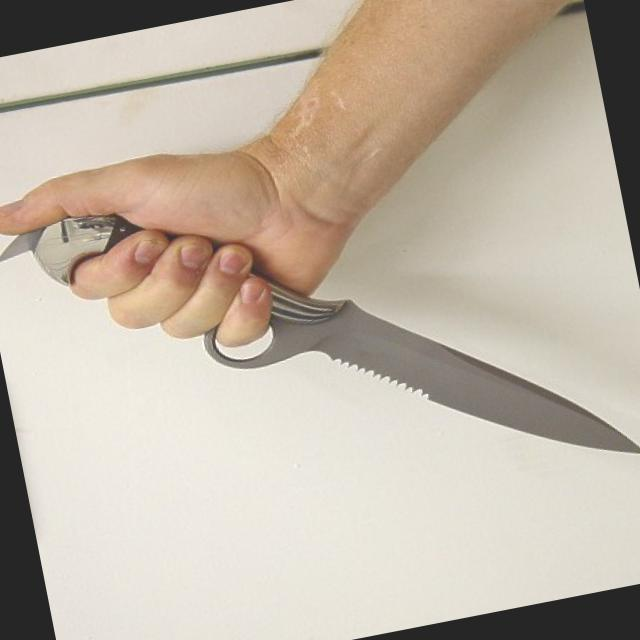knife: (127, 147, 639, 553)
